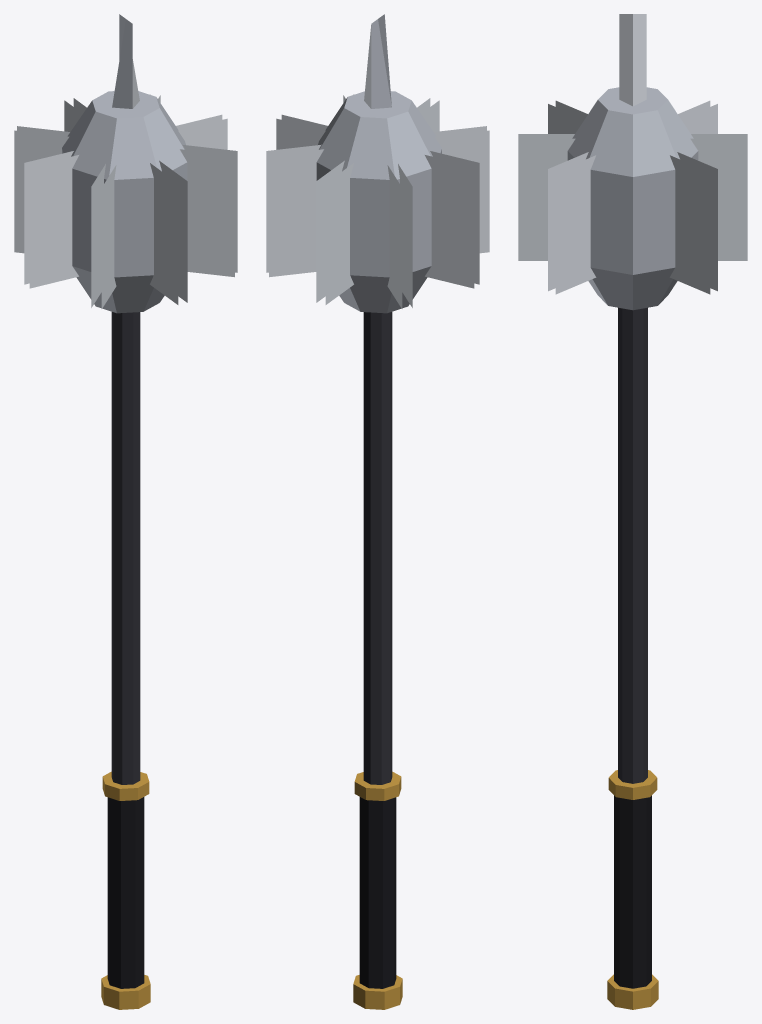
Rendered from mace.obj.
The picture shows the model from 3 angles, left to right: view 1: azimuth 30°, elevation 25°; view 2: azimuth 150°, elevation 25°; view 3: azimuth 270°, elevation 25°; orthographic projection.
Parts seen in each view (by area): view 1: mace; view 2: mace; view 3: mace.
Part boxes in pixels (x1,y1,x2,y2): mace: [14, 14, 237, 1009]; mace: [266, 14, 489, 1009]; mace: [518, 14, 747, 1009].
Bounding box in the file's own units: 0.221 × 1.05 × 0.221.
